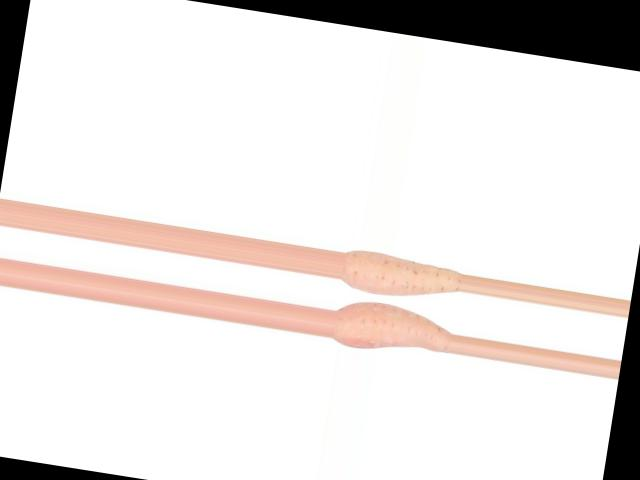sweet_potato: (339, 248, 459, 306)
